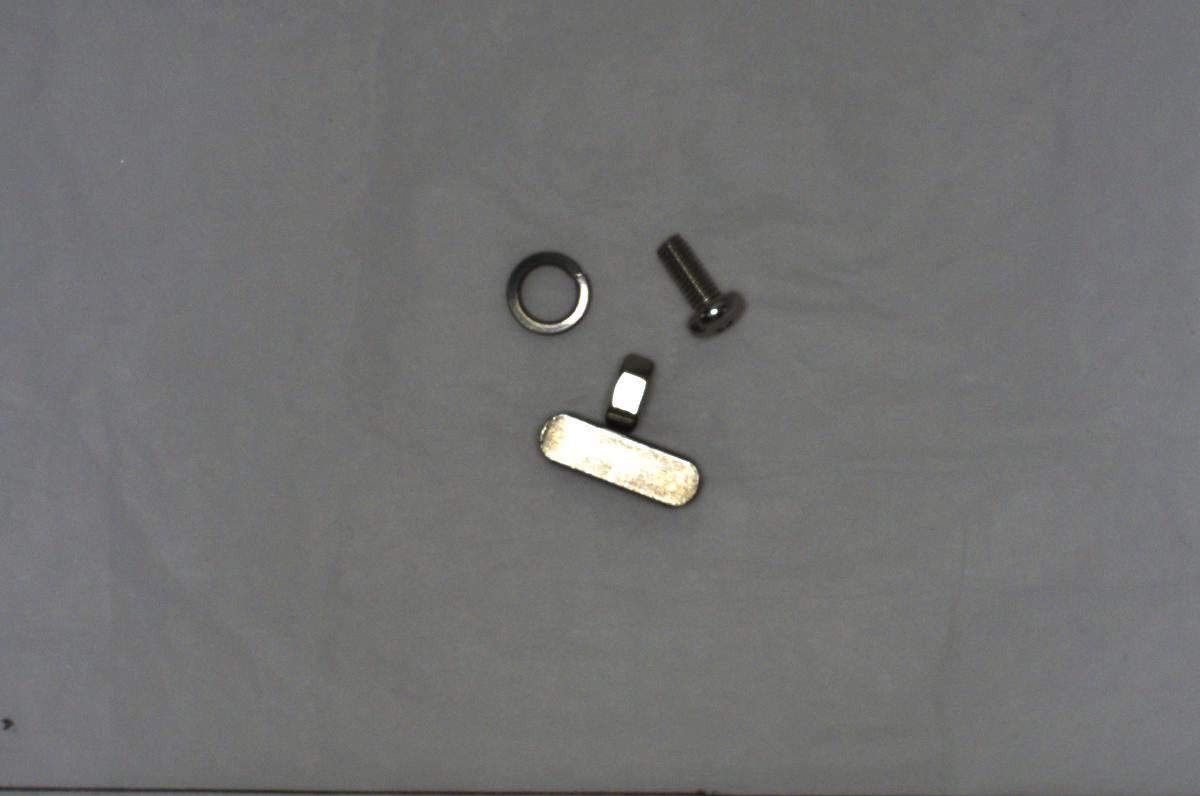Hexagon nut: (591, 346, 664, 428)
Keybar: (534, 410, 704, 509)
Round head screw: (651, 223, 755, 345)
Spring washer: (491, 240, 602, 347)
